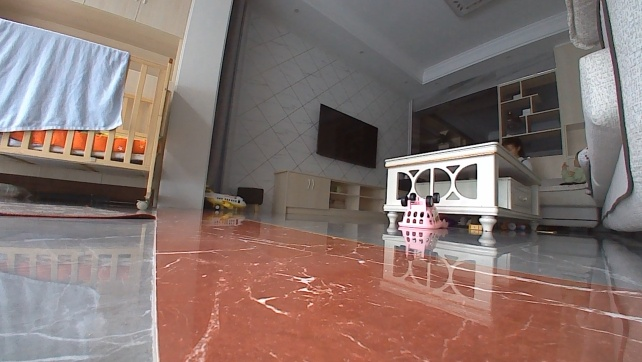TV_stand1: (269, 166, 383, 224)
blanket: (0, 196, 158, 223)
plastic_toy: (203, 185, 250, 213), (465, 222, 484, 232)
sofa1: (539, 0, 641, 236)
tea_table: (380, 140, 544, 233)
